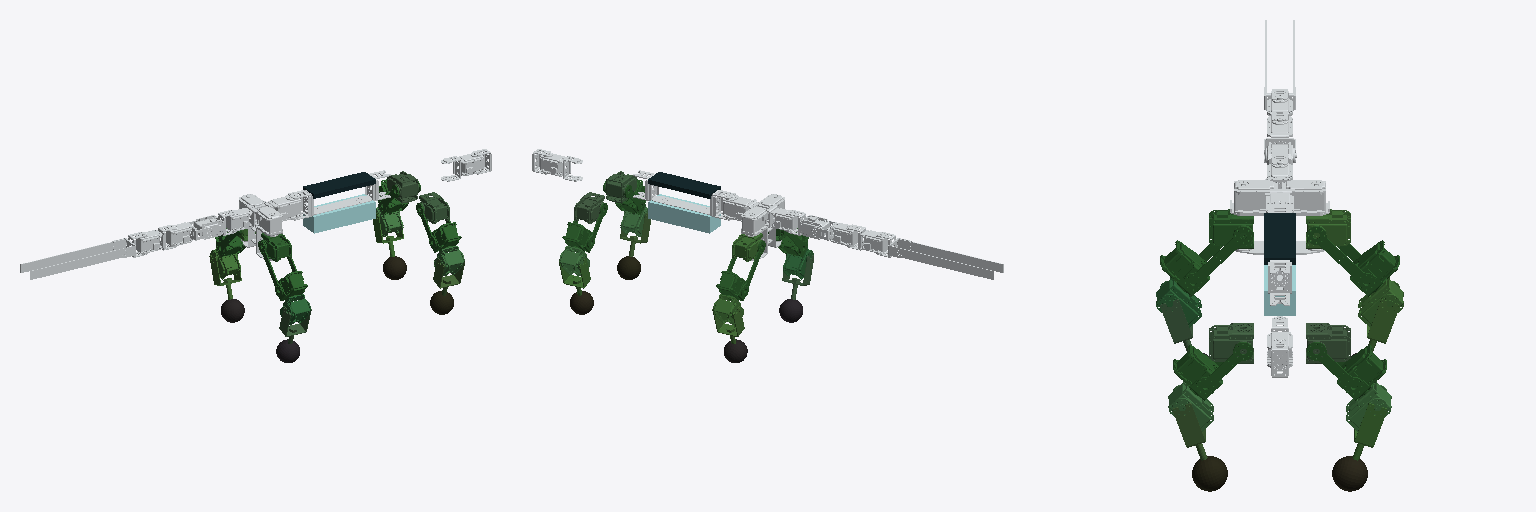
--- Facts derived from the render (not from the file) ---
3 views of the same robot in one strip: view 1: azimuth 30°, elevation 25°; view 2: azimuth 150°, elevation 25°; view 3: azimuth 270°, elevation 25° (orthographic).
Model ambot with 31 links and 30 joints (12 revolute, 18 fixed), rooted at base_link, posed joints at zero except 8 at the middle of their limits (FL_joint2 = -0.8, FL_joint4 = -1.1, FR_joint2 = 0.8, FR_joint4 = 1.1, HL_joint2 = -0.8, HL_joint4 = -1.1, +2 more).
Visible links, largest first — view 1: spine_link2, tail_link4, BATTERY_LINK, spine_link1, back_shell, HR_link2, FR_link2, head_link2, tail_link2, FL_link1, FR_link1, tail_link3 (+6 smaller); view 2: spine_link2, tail_link4, BATTERY_LINK, spine_link1, back_shell, HL_link2, FL_link2, head_link2, tail_link2, FR_link1, FL_link1, tail_link3 (+6 smaller); view 3: spine_link2, HR_link2, HL_link2, FL_link2, FR_link2, back_shell, FR_link1, FL_link1, spine_link1, HL_link1, HR_link1, FL_link3 (+16 smaller).
Link boxes in pixels (<box>): spine_link2: <box>225,194,300,260</box>; tail_link4: <box>20,232,146,279</box>; BATTERY_LINK: <box>303,194,375,233</box>; spine_link1: <box>288,170,390,220</box>; back_shell: <box>303,172,375,198</box>; HR_link2: <box>258,240,307,300</box>; FR_link2: <box>416,203,461,252</box>; head_link2: <box>441,154,483,181</box>; tail_link2: <box>166,221,208,246</box>; FL_link1: <box>387,171,418,203</box>; FR_link1: <box>419,192,449,223</box>; tail_link3: <box>136,225,175,254</box>; spine_link2: <box>723,194,798,260</box>; tail_link4: <box>877,232,1003,279</box>; BATTERY_LINK: <box>648,194,720,233</box>; spine_link1: <box>633,170,735,220</box>; back_shell: <box>648,172,720,198</box>; HL_link2: <box>716,240,765,300</box>; FL_link2: <box>562,203,607,252</box>; head_link2: <box>540,154,582,181</box>; tail_link2: <box>815,221,857,246</box>; FR_link1: <box>605,171,636,203</box>; FL_link1: <box>574,192,604,223</box>; tail_link3: <box>848,224,887,254</box>; spine_link2: <box>1230,161,1329,254</box>; HR_link2: <box>1160,226,1252,296</box>; HL_link2: <box>1307,226,1399,296</box>; FL_link2: <box>1307,342,1386,400</box>; FR_link2: <box>1173,342,1252,400</box>; back_shell: <box>1264,213,1295,264</box>; FR_link1: <box>1209,323,1253,363</box>; FL_link1: <box>1306,323,1350,363</box>; spine_link1: <box>1268,203,1291,305</box>; HL_link1: <box>1306,209,1350,248</box>; HR_link1: <box>1209,209,1253,248</box>; FL_link3: <box>1346,381,1391,431</box>.
Size in the robot's own frame: 1.11 by 0.3465 by 0.3189 metres.
24 mesh visuals loaded from 25 distinct referenced files (24 Collada DAE); not drawn: 1 (reference not matched to a file when rendering).

The robot description file, URDF, robot "ambot":
<?xml version="1.0" encoding="utf-8"?>
<!-- This URDF was automatically created by SolidWorks to URDF Exporter! Originally created by Stephen Brawner ([email redacted]) 
     Commit Version: 1.6.0-4-g7f85cfe  Build Version: 1.6.7995.38578
     For more information, please see http://wiki.ros.org/sw_urdf_exporter -->
<robot
	name="ambot">
	<link
		name="base_link">
		<inertial>
			<origin
				xyz="-0.0072192 1.7929E-05 0.053303"
				rpy="0 0 0" />
			<mass
				value="0.56788" />
			<inertia
				ixx="0.00019704"
				ixy="4.9225E-08"
				ixz="2.2788E-07"
				iyy="0.00017416"
				iyz="6.512E-12"
				izz="0.0001765" />
		</inertial>
		<visual>
			<origin
				xyz="0 0 0"
				rpy="0 0 0" />
			<geometry>
				<mesh
					filename="../meshes/base_link.dae" />
			</geometry>
			<material
				name="AL">
				<color
					rgba="0.89804 0.91765 0.92941 1" />
			</material>
		</visual>
		<collision>
			<origin
				xyz="0 0 0.013"
				rpy="0 0 0" />
			<geometry>
				<box size="0.041 0.037 0.05"/>
			</geometry>
		</collision>
		<!--left motor-->
		<collision>
			<origin
				xyz="0 0.0355 0.0604"
				rpy="0 0 0" />
			<geometry>
				<box size="0.041 0.060 0.041"/>
			</geometry>
		</collision>
		<!--right motor-->
		<collision>
			<origin
				xyz="0 -0.0355 0.0604"
				rpy="0 0 0" />
			<geometry>
				<box size="0.041 0.060 0.041"/>
			</geometry>
		</collision>
		<collision>
			<origin
				xyz="0.052 0 0.06035"
				rpy="0 0 0" />
			<geometry>
				<box size="0.045 0.0356 0.0356"/>
			</geometry>
		</collision>
		<collision>
			<origin
				xyz="-0.0575 0 0.06035"
				rpy="0 0 0" />
			<geometry>
				<box size="0.060 0.041 0.041"/>
			</geometry>
		</collision>

	</link>
	<link
		name="FL_link1">
		<inertial>
			<origin
				xyz="-1.0577E-05 0.013265 -0.069565"
				rpy="0 0 0" />
			<mass
				value="0.14912" />
			<inertia
				ixx="4.5576E-05"
				ixy="5.3711E-07"
				ixz="-5.2525E-13"
				iyy="3.201E-05"
				iyz="3.8531E-12"
				izz="5.5459E-05" />
		</inertial>
		<visual>
			<origin
				xyz="0 0 0"
				rpy="0 0 0" />
			<geometry>
				<mesh
					filename="../meshes/FL_link1.dae" />
			</geometry>
			<material
				name="A">
				<color
					rgba="0.29608 0.40608 0.29608 1" />
			</material>
		</visual>
		<collision>
			<origin
				xyz="0 0.015 -0.068"
				rpy="0 0 0" />
			<geometry>
				<box size="0.041 0.060 0.041"/>
			</geometry>
		</collision>
	</link>
	<joint
		name="FL_joint1"
		type="revolute">
		<origin
			xyz="0 0.051 0.0824"
			rpy="0 0 0" />
		<parent
			link="base_link" />
		<child
			link="FL_link1" />
		<axis
			xyz="0 0 1" />
		<limit
			lower="-1.4"
			upper="1.4"
			effort="12"
			velocity="6" 
			command_effort="12" 
			current="10"
			gear_velocity="10"
			stiffness="10"
			damping="1.0"
			/> 
		<dynamics damping="0.0" friction="0.0"/>  
	</joint>
	<link
		name="FL_link2">
		<inertial>
			<origin
				xyz="-0.0252 0.071262 0.012145"
				rpy="0 0 0" />
			<mass
				value="0.16287" />
			<inertia
				ixx="7.2988E-05"
				ixy="-5.2526E-13"
				ixz="3.8531E-12"
				iyy="4.59E-05"
				iyz="5.3711E-07"
				izz="4.8861E-05" />
		</inertial>
		<visual>
			<origin
				xyz="0 0 0"
				rpy="0 0 0" />
			<geometry>
				<mesh
					filename="../meshes/FL_link2.dae" />
			</geometry>
			<material
				name="A">
				<color
					rgba="0.2 0.4 0.2 1" />
			</material>
		</visual>

		<collision>
			<origin
				xyz="-0.024 0.075 0.015"
				rpy="0 0 0" />
			<geometry>
				<box size="0.041 0.041 0.060"/>
			</geometry>
		</collision>


	</link>
	<joint
		name="FL_joint2"
		type="revolute">
		<origin
			xyz="0.0252 -1.4041E-05 -0.0694"
			rpy="0 0 0" />
		<parent
			link="FL_link1" />
		<child
			link="FL_link2" />
		<axis
			xyz="1 0 0" />
		<limit
			lower="-1.4"
			upper="-0.2"
			effort="12"
			velocity="6" 
			command_effort="12" 
			current="10"
			gear_velocity="10"
			/> 
		<dynamics damping="0.0" friction="0.0"/>  
	</joint>
	<link
		name="FL_link3">
		<inertial>
			<origin
				xyz="-1.1199E-05 0.021089 -0.013973"
				rpy="0 0 0" />
			<mass
				value="0.14082" />
			<inertia
				ixx="4.4846E-05"
				ixy="-7.8684E-13"
				ixz="-5.3711E-07"
				iyy="5.3296E-05"
				iyz="2.4955E-08"
				izz="3.048E-05" />
		</inertial>
		<visual>
			<origin
				xyz="0 0 0"
				rpy="0 0 0" />
			<geometry>
				<mesh
					filename="../meshes/FL_link3.dae" />
			</geometry>
			<material
				name="A">
				<color
					rgba="0.289804 0.491765 0.2941 1" />
			</material>
		</visual>

		<collision>
			<origin
				xyz="0 0.022 -0.0155"
				rpy="0 0 0" />
			<geometry>
				<box size="0.041 0.041 0.060"/>
			</geometry>
		</collision>

	</link>
	<joint
		name="FL_joint3"
		type="fixed">
		<origin
			xyz="-0.0252 0.10021 -1.4041E-05"
			rpy="0 0 0" />
		<parent
			link="FL_link2" />
		<child
			link="FL_link3" />
		<axis
			xyz="0 1 0" />
		<limit
			lower="-1.4"
			upper="1.4"
			effort="12"
			velocity="6" 
			command_effort="12" 
			current="10"
			gear_velocity="10"
			/> 
		<dynamics damping="0.0" friction="0.0"/>  
	</joint>
	<link
		name="FL_link4">
		<inertial>
			<origin
				xyz="-0.0253000000007098 0.0662040642638314 -1.40411115238936E-05"
				rpy="0 0 0" />
			<mass
				value="0.0753829969965019" />
			<inertia
				ixx="3.430873341814E-05"
				ixy="2.49411774392775E-15"
				ixz="-2.71165864549092E-14"
				iyy="1.48258857291574E-05"
				iyz="3.95784402417202E-15"
				izz="4.47639226162227E-05" />
		</inertial>
		<visual>
			<origin
				xyz="0 0 0"
				rpy="0 0 0" />
			<geometry>
				<mesh
					filename="../meshes/FL_link4.dae" />
			</geometry>
			<material
				name="A">
				<color
					rgba="0.28039215686275 0.47647058823529 0.229411764705882 1" />
			</material>
		</visual>
		<collision>
			<origin
				xyz="-0.024 0.078 0.0"
				rpy="0 0 0" />
			<geometry>
				<box size="0.01 0.030 0.01"/>
			</geometry>
		</collision>

	</link>
	<joint
		name="FL_joint4"
		type="revolute">
		<origin
			xyz="0.0252 0.0222 2.8082E-05"
			rpy="0 0 0" />
		<parent
			link="FL_link3" />
		<child
			link="FL_link4" />
		<axis
			xyz="1 0 0" />
		<limit
			lower="-1.6"
			upper="-0.6"
			effort="12"
			velocity="6" 
			command_effort="12" 
			current="10"
			gear_velocity="10"
			/> 
		<dynamics damping="0.0" friction="0.0"/>  
	</joint>

	<!-- Foot link -->  
	<link name="FL_foot">    
		<visual>
			<origin xyz="-0.02530 0.1190 0"/>      
			<geometry>        
				<sphere radius="0.025"/>      
			</geometry>  
			<material
				name="A">
				<color
					rgba="0.1898039215686275 0.17647058823529 0.129411764705882 1" />
			</material>
		</visual>
		<collision>      
			<origin xyz="-0.02530 0.1190 0"/>      
			<geometry>        
				<sphere radius="0.025"/>      
			</geometry>    
		</collision> 
		<inertial>
			<origin rpy="0 0 0" xyz="-0.02530 0.1190 0"/>
			<mass value="0.05"/>
			<inertia ixx="0.001" ixy="-2.63048e-07" ixz="6.815581e-06" iyy="0.001" iyz="-6.815583e-06" izz="8.319196e-06"/>
		</inertial> 
	</link>

	<joint name="FL_TO_FOOT" type="fixed" dont_collapse="true">    
		<parent link="FL_link4"/>    
		<child link="FL_foot"/>    
		<origin rpy="0.0 0.0 0.0" xyz="0.0 0.0 0.0"/>  
	</joint>    

	<link
		name="FR_link1">
		<inertial>
			<origin
				xyz="-1.0577E-05 -0.013265 -0.069565"
				rpy="0 0 0" />
			<mass
				value="0.14912" />
			<inertia
				ixx="4.5576E-05"
				ixy="-5.3711E-07"
				ixz="5.2525E-13"
				iyy="3.201E-05"
				iyz="3.8531E-12"
				izz="5.5459E-05" />
		</inertial>
		<visual>
			<origin
				xyz="0 0 0"
				rpy="0 0 0" />
			<geometry>
				<mesh
					filename="../meshes/FR_link1.dae" />
			</geometry>
			<material
				name="A">
				<color
					rgba="0.289804 0.41765 0.2941 1" />
			</material>
		</visual>


		<collision>
			<origin
				xyz="0 -0.015 -0.068"
				rpy="0 0 0" />
			<geometry>
				<box size="0.041 0.060 0.041"/>
			</geometry>
		</collision>


	</link>
	<joint
		name="FR_joint1"
		type="revolute">
		<origin
			xyz="0 -0.051 0.0824"
			rpy="0 0 0" />
		<parent
			link="base_link" />
		<child
			link="FR_link1" />
		<axis
			xyz="0 0 1" />
		<limit
			lower="-1.4"
			upper="1.4"
			effort="12"
			velocity="6" 
			command_effort="12" 
			current="10"
			gear_velocity="10"
			/> 
		<dynamics damping="0.0" friction="0.0"/>  
	</joint>
	<link
		name="FR_link2">
		<inertial>
			<origin
				xyz="-0.0252 -0.071278 0.012145"
				rpy="0 0 0" />
			<mass
				value="0.16287" />
			<inertia
				ixx="7.2988E-05"
				ixy="-5.2525E-13"
				ixz="-3.8531E-12"
				iyy="4.59E-05"
				iyz="-5.3711E-07"
				izz="4.8861E-05" />
		</inertial>
		<visual>
			<origin
				xyz="0 0 0"
				rpy="0 0 0" />
			<geometry>
				<mesh
					filename="../meshes/FR_link2.dae" />
			</geometry>
			<material
				name="A">
				<color
					rgba="0.2 0.4 0.2 1" />
			</material>
		</visual>

		<collision>
			<origin
				xyz="-0.024 -0.075 0.015"
				rpy="0 0 0" />
			<geometry>
				<box size="0.041 0.041 0.060"/>
			</geometry>
		</collision>

	</link>
	<joint
		name="FR_joint2"
		type="revolute">
		<origin
			xyz="0.0252 1.4041E-05 -0.0694"
			rpy="0 0 0" />
		<parent
			link="FR_link1" />
		<child
			link="FR_link2" />
		<axis
			xyz="1 0 0" />
		<limit
			lower="0.2"
			upper="1.4"
			effort="12"
			velocity="6" 
			command_effort="12" 
			current="10"
			gear_velocity="10"
			/> 
		<dynamics damping="0.0" friction="0.0"/>  
	</joint>
	<link
		name="FR_link3">
		<inertial>
			<origin
				xyz="-1.1201E-05 -0.021089 -0.013973"
				rpy="0 0 0" />
			<mass
				value="0.14082" />
			<inertia
				ixx="4.4846E-05"
				ixy="-7.8675E-13"
				ixz="-5.3711E-07"
				iyy="5.3296E-05"
				iyz="-2.4963E-08"
				izz="3.048E-05" />
		</inertial>
		<visual>
			<origin
				xyz="0 0 0"
				rpy="0 0 0" />
			<geometry>
				<mesh
					filename="../meshes/FR_link3.dae" />
			</geometry>
			<material
				name="A">
				<color
					rgba="0.2804 0.4765 0.2941 1" />
			</material>
		</visual>

		<collision>
			<origin
				xyz="0 -0.022 -0.0155"
				rpy="0 0 0" />
			<geometry>
				<box size="0.041 0.041 0.060"/>
			</geometry>
		</collision>


	</link>
	<joint
		name="FR_joint3"
		type="fixed">
		<origin
			xyz="-0.0252 -0.10021 -1.4041E-05"
			rpy="0 0 0" />
		<parent
			link="FR_link2" />
		<child
			link="FR_link3" />
		<axis
			xyz="0 -1 0" />
		<limit
			lower="-1.4"
			upper="1.4"
			effort="12"
			velocity="6" 
			command_effort="12" 
			current="10"
			gear_velocity="10"
			/> 
		<dynamics damping="0.0" friction="0.0"/>  
	</joint>
	<link
		name="FR_link4">
		<inertial>
			<origin
				xyz="-0.0252999999993032 -0.0662040642643617 -1.40411115240324E-05"
				rpy="0 0 0" />
			<mass
				value="0.0753829969965019" />
			<inertia
				ixx="3.43087334181399E-05"
				ixy="2.49000423218722E-15"
				ixz="2.71167487151664E-14"
				iyy="1.48258857291574E-05"
				iyz="-3.95750984296237E-15"
				izz="4.47639226162226E-05" />
		</inertial>
		<visual>
			<origin
				xyz="0 0 0"
				rpy="0 0 0" />
			<geometry>
				<mesh
					filename="../meshes/FR_link4.dae" />
			</geometry>
			<material
				name="A">
				<color
					rgba="0.2898039215686275 0.417647058823529 0.2411764705882 1" />
			</material>
		</visual>
		<collision>
			<origin
				xyz="-0.024 -0.078 0.0"
				rpy="0 0 0" />
			<geometry>
				<box size="0.01 0.030 0.01"/>
			</geometry>
		</collision>
	</link>
	<joint
		name="FR_joint4"
		type="revolute">
		<origin
			xyz="0.0252 -0.0222 2.8082E-05"
			rpy="0 0 0" />
		<parent
			link="FR_link3" />
		<child
			link="FR_link4" />
		<axis
			xyz="1 0 0" />
		<limit
			lower="0.6"
			upper="1.6"
			effort="12"
			velocity="6" 
			command_effort="12" 
			current="10"
			gear_velocity="10"
			/> 
		<dynamics damping="0.0" friction="0.0"/>  
	</joint>

	<!-- Foot link -->  
	<link name="FR_foot">    
		<visual>
			<origin xyz="-0.02530 -0.1190 0"/>      
			<geometry>        
				<sphere radius="0.025"/>      
			</geometry>  
			<material
				name="A">
				<color
					rgba="0.18039215686275 0.17647058823529 0.11764705882 1" />
			</material>
		</visual>
		<collision>      
			<origin xyz="-0.02530 -0.1190 0"/>      
			<geometry>        
				<sphere radius="0.025"/>      
			</geometry>    
		</collision> 
		<inertial>
			<origin rpy="0 0 0" xyz="-0.02530 -0.1190 0"/>
			<mass value="0.05"/>
			<inertia ixx="0.001" ixy="-2.63048e-07" ixz="6.815581e-06" iyy="0.001" iyz="-6.815583e-06" izz="8.319196e-06"/>
		</inertial> 
	</link>

	<joint name="FR_TO_FOOT" type="fixed" dont_collapse="true">    
		<parent link="FR_link4"/>    
		<child link="FR_foot"/>    
		<origin rpy="0.0 0.0 0.0" xyz="0.0 0.0 0.0"/>  
	</joint>

	<link
		name="head_link2">
		<inertial>
			<origin
				xyz="0.052854 1.9632E-05 -0.02331"
				rpy="0 0 0" />
			<mass
				value="0.093763" />
			<inertia
				ixx="1.7484E-05"
				ixy="-6.1699E-09"
				ixz="-3.0933E-07"
				iyy="2.5926E-05"
				iyz="9.9901E-12"
				izz="2.0282E-05" />
		</inertial>
		<visual>
			<origin
				xyz="0 0 0"
				rpy="0 0 0" />
			<geometry>
				<mesh
					filename="../meshes/head_link2.dae" />
			</geometry>
			<material
				name="A">
				<color
					rgba="0.89804 0.91765 0.92941 1" />
			</material>
		</visual>

		<collision>
			<origin
				xyz="0.0513 0 -0.023"
				rpy="0 0 0" />
			<geometry>
				<box size="0.045 0.0356 0.0356"/>
			</geometry>
		</collision>


	</link>
	<joint
		name="head_joint2"
		type="fixed">
		<origin
			xyz="0.065812 0 0.08365"
			rpy="0 0 0" />
		<parent
			link="base_link" />
		<child
			link="head_link2" />
		<axis
			xyz="0 0 1" />
		<limit
			lower="-1.4"
			upper="1.4"
			effort="12"
			velocity="6" 
			command_effort="12" 
			current="10"
			gear_velocity="10"
			/> 
		<dynamics damping="0.0" friction="0.0"/>  
	</joint>
	<link
		name="head_link1">
		<inertial>
			<origin
				xyz="0.0148535095184353 1.39693829420695E-10 -0.0227582124062495"
				rpy="0 0 0" />
			<mass
				value="0.0128608784456393" />
			<inertia
				ixx="3.37863718117877E-06"
				ixy="-3.45517326553958E-15"
				ixz="-1.0234725253828E-10"
				iyy="3.64111475652834E-06"
				iyz="-1.73952253493372E-17"
				izz="1.66261496718536E-06" />
		</inertial>
		<visual>
			<origin
				xyz="0 0 0"
				rpy="0 0 0" />
			<geometry>
				<mesh
					filename="../meshes/head_link1.dae" />
			</geometry>
			<material
				name="A">
				<color
					rgba="0.898039215686275 0.917647058823529 0.929411764705882 1" />
			</material>
		</visual>

		<collision>
			<origin
				xyz="0.0513 0 -0.023"
				rpy="0 0 0" />
			<geometry>
				<box size="0.045 0.0356 0.0356"/>
			</geometry>
		</collision>


	</link>
	<joint
		name="head_joint1"
		type="fixed">
		<origin
			xyz="0.0718 0 -0.0001"
			rpy="0 0 0" />
		<parent
			link="head_link2" />
		<child
			link="head_link1" />
		<axis
			xyz="0 0 1" />
		<limit
			lower="-1.4"
			upper="1.4"
			effort="12"
			velocity="6" 
			command_effort="12" 
			current="10"
			gear_velocity="10"
			/> 
		<dynamics damping="0.0" friction="0.0"/>  
	</joint>
	<link
		name="spine_link1">
		<inertial>
			<origin
				xyz="-0.112785958888 -3.08780778723872E-16 -0.0233499999999768"
				rpy="0 0 0" />
			<mass
				value="0.103071283080016" />
			<inertia
				ixx="3.81209960942315E-05"
				ixy="-4.49393428156638E-22"
				ixz="-1.52191878234228E-18"
				iyy="9.44367833460431E-05"
				iyz="3.84077898124163E-22"
				izz="7.62238168208059E-05" />
		</inertial>
		<visual>
			<origin
				xyz="0.1418 0 0"
				rpy="0 0 0" />
			<geometry>
				<mesh
					filename="../meshes/spine_link1.dae" />
			</geometry>
			<material
				name="A">
				<color
					rgba="0.898039215686275 0.917647058823529 0.929411764705882 1" />
			</material>
		</visual>

		<collision>
			<origin
				xyz="-0.1128 0 -0.023"
				rpy="0 0 0" />
			<geometry>
				<box size="0.1576 0.0356 0.045"/>
			</geometry>
		</collision>

	</link>
	<joint
		name="spine_joint1"
		type="fixed">
		<origin
			xyz="-0.076014 0 0.0856"
			rpy="0 0 0" />
		<parent
			link="base_link" />
		<child
			link="spine_link1" />
		<axis
			xyz="0 0 1" />
		<limit
			lower="-1.2"
			upper="1.2"
			effort="12"
			velocity="6" 
			command_effort="12" 
			current="10"
			gear_velocity="10"
			/> 
		<dynamics damping="0.0" friction="0.0"/>
	</joint>

	<link
		name="BATTERY_LINK">
		<inertial>
			<origin
				xyz="0 0 0"
				rpy="0 0 0" />
			<mass
				value="0.650" />
			<inertia
				ixx="0.00077"
				ixy="0.000914"
				ixz="-1.52191878234228E-18"
				iyy="0.0052"
				iyz="0.000284"
				izz="0.00506" />
		</inertial>
		<visual>
			<origin
				xyz="0.0 0 0"
				rpy="0 0 0" />
			<geometry>
				<box size="0.148 0.046 0.038"/>
			</geometry>
			<material
				name="A">
				<color
					rgba="0.7039215686275 0.917647058823529 0.929411764705882 1" />
			</material>
		</visual>
		<collision>
			<origin
				xyz="0.0 0 0"
				rpy="0 0 0" />
			<geometry>
				<box size="0.148 0.046 0.038"/>
			</geometry>
		</collision>

	</link>

	<link
		name="back_shell">
		<inertial>
			<origin
				xyz="0 0 0"
				rpy="0 0 0" />
			<mass
				value="0.01" />
			<inertia
				ixx="0.00077"
				ixy="0.000914"
				ixz="-1.52191878234228E-18"
				iyy="0.0052"
				iyz="0.000284"
				izz="0.00506" />
		</inertial>
		<visual>
			<origin
				xyz="0.0 0 0"
				rpy="0 0 0" />
			<geometry>
				<box size="0.148 0.046 0.01"/>
			</geometry>
			<material
				name="A">
				<color
					rgba="0.098039215686275 0.17647058823529 0.19411764705882 1" />
			</material>
		</visual>
		<collision>
			<origin
				xyz="0.0 0 0"
				rpy="0 0 0" />
			<geometry>
				<box size="0.148 0.046 0.01"/>
			</geometry>
		</collision>
	</link>

	<joint
		name="back_shell_joint"
		type="fixed">
		<origin
			xyz="-0.112812 0 0.0"
			rpy="0 0 0" />
		<parent
			link="spine_link1" />
		<child
			link="back_shell" />
		<axis
			xyz="0 0 1" />
		<limit
			lower="0"
			upper="0"
			effort="0"
			velocity="0" />
	</joint>


	<joint
		name="FIX_JOINT"
		type="fixed">
		<origin
			xyz="-0.112812 0 -0.065"
			rpy="0 0 0" />
		<parent
			link="spine_link1" />
		<child
			link="BATTERY_LINK" />
		<axis
			xyz="0 0 1" />
		<limit
			lower="0"
			upper="0"
			effort="0"
			velocity="0" />
	</joint>

	<link
		name="spine_link2">
		<inertial>
			<origin
				xyz="-0.069295 -1.1371E-05 -0.032236"
				rpy="0 0 0" />
			<mass
				value="0.57179" />
			<inertia
				ixx="0.00019717"
				ixy="6.1567E-08"
				ixz="-2.2788E-07"
				iyy="0.00017428"
				iyz="-6.5119E-12"
				izz="0.00017674" />
		</inertial>
		<visual>
			<origin
				xyz="0 0 0"
				rpy="0 0 0" />
			<geometry>
				<mesh
					filename="../meshes/spine_link2.dae" />
			</geometry>
			<material
				name="A">
				<color
					rgba="0.89804 0.91765 0.92941 1" />
			</material>
		</visual>

		<collision>
			<origin
				xyz="-0.076 0 -0.073"
				rpy="0 0 0" />
			<geometry>
				<box size="0.041 0.037 0.05"/>
			</geometry>
		</collision>
		<!--left motor-->
		<collision>
			<origin
				xyz="-0.076 0.0355 -0.0256"
				rpy="0 0 0" />
			<geometry>
				<box size="0.041 0.060 0.041"/>
			</geometry>
		</collision>
		<!--right motor-->
		<collision>
			<origin
				xyz="-0.076 -0.0355 -0.0256"
				rpy="0 0 0" />
			<geometry>
				<box size="0.041 0.060 0.041"/>
			</geometry>
		</collision>
		<collision>
			<origin
				xyz="-0.1285 0 -0.02565"
				rpy="0 0 0" />
			<geometry>
				<box size="0.045 0.0356 0.0356"/>
			</geometry>
		</collision>
		<collision>
			<origin
				xyz="-0.018 0 -0.02565"
				rpy="0 0 0" />
			<geometry>
				<box size="0.060 0.041 0.041"/>
			</geometry>
		</collision>



	</link>
	<joint
		name="spine_joint2"
		type="fixed">
		<origin
			xyz="-0.2256 0 0.00195"
			rpy="0 0 0" />
		<parent
			link="spine_link1" />
		<child
			link="spine_link2" />
		<axis
			xyz="0 0 1" />
		<limit
			lower="-1.2"
			upper="1.2"
			effort="12"
			velocity="6" 
			command_effort="12" 
			current="10"
			gear_velocity="10"
			/> 
		<dynamics damping="0.0" friction="0.0"/>  
	</joint>
	<link
		name="HL_link1">
		<inertial>
			<origin
				xyz="-1.05771180524405E-05 0.0132654601574521 -0.069565480566841"
				rpy="0 0 0" />
			<mass
				value="0.149115595818189" />
			<inertia
				ixx="4.55758083562384E-05"
				ixy="5.37110126541777E-07"
				ixz="-5.25253727939667E-13"
				iyy="3.20102348934197E-05"
				iyz="3.85309005142872E-12"
				izz="5.54585973240775E-05" />
		</inertial>
		<visual>
			<origin
				xyz="0 0 0"
				rpy="0 0 0" />
			<geometry>
				<mesh
					filename="../meshes/HL_link1.dae" />
			</geometry>
			<material
				name="A">
				<color
					rgba="0.28039215686275 0.47058823529 0.2411764705882 1" />
			</material>
		</visual>

		<collision>
			<origin
				xyz="0 0.015 -0.068"
				rpy="0 0 0" />
			<geometry>
				<box size="0.041 0.060 0.041"/>
			</geometry>
		</collision>

	</link>
	<joint
		name="HL_joint1"
		type="revolute">
		<origin
			xyz="-0.076014 0.051 -0.0032"
			rpy="0 0 0" />
		<parent
			link="spine_link2" />
		<child
			link="HL_link1" />
		<axis
			xyz="0 0 1" />
		<limit
			lower="-1.4"
			upper="1.4"
			effort="12"
			velocity="6" 
			command_effort="12" 
			current="10"
			gear_velocity="10"
			/> 
		<dynamics damping="0.0" friction="0.0"/>  
	</joint>
	<link
		name="HL_link2">
		<inertial>
			<origin
				xyz="-0.0251999999062681 0.0937865916689117 0.0118538068190398"
				rpy="0 0 0" />
			<mass
				value="0.166873564364499" />
			<inertia
				ixx="8.85185054689428E-05"
				ixy="-5.25261127744957E-13"
				ixz="3.85308970709481E-12"
				iyy="4.59783608946718E-05"
				iyz="5.37110126538201E-07"
				izz="6.4318688931619E-05" />
		</inertial>
		<visual>
			<origin
				xyz="0 0 0"
				rpy="0 0 0" />
			<geometry>
				<mesh
					filename="../meshes/HL_link2.dae" />
			</geometry>
			<material
				name="A">
				<color
					rgba="0.2 0.4 0.2 1.0" />
			</material>
		</visual>

		<collision>
			<origin
				xyz="-0.024 0.1 0.015"
				rpy="0 0 0" />
			<geometry>
				<box size="0.041 0.041 0.060"/>
			</geometry>
		</collision>


	</link>
	<joint
		name="HL_joint2"
		type="revolute">
		<origin
			xyz="0.0252 -1.4041E-05 -0.0694"
			rpy="0 0 0" />
		<parent
			link="HL_link1" />
		<child
			link="HL_link2" />
		<axis
			xyz="1 0 0" />
		<limit
			lower="-1.4"
			upper="-0.2"
			effort="12"
			velocity="6" 
			command_effort="12" 
			current="10"
			gear_velocity="10"
			/> 
		<dynamics damping="0.0" friction="0.0"/>  
	</joint>
	<link
		name="HL_link3">
		<inertial>
			<origin
				xyz="-1.11986618887283E-05 0.0210886893382483 -0.0139733231144062"
				rpy="0 0 0" />
			<mass
				value="0.140823246480586" />
			<inertia
				ixx="4.48458889111508E-05"
				ixy="-7.8684330088224E-13"
				ixz="-5.37107696648494E-07"
				iyy="5.32958595107274E-05"
				iyz="2.49548169241301E-08"
				izz="3.04800781289404E-05" />
		</inertial>
		<visual>
			<origin
				xyz="0 0 0"
				rpy="0 0 0" />
			<geometry>
				<mesh
					filename="../meshes/HL_link3.dae" />
			</geometry>
			<material
				name="A">
				<color
					rgba="0.28039215686275 0.47058823529 0.2411764705882 1" />
			</material>
		</visual>

		<collision>
			<origin
				xyz="0 0.022 -0.0155"
				rpy="0 0 0" />
			<geometry>
				<box size="0.041 0.041 0.060"/>
			</geometry>
		</collision>

	</link>
	<joint
		name="HL_joint3"
		type="fixed">
		<origin
			xyz="-0.0252 0.12521 -1.4041E-05"
			rpy="0 0 0" />
		<parent
			link="HL_link2" />
		<child
			link="HL_link3" />
		<axis
			xyz="0 1 0" />
		<limit
			lower="-1.4"
			upper="1.4"
			effort="12"
			velocity="6" 
			command_effort="12" 
			current="10"
			gear_velocity="10"
			/> 
		<dynamics damping="0.0" friction="0.0"/>  
	</joint>
	<link
		name="HL_link4">
		<inertial>
			<origin
				xyz="-0.025300000000711 0.0662040642638319 -1.40411115246153E-05"
				rpy="0 0 0" />
			<mass
				value="0.075382996996502" />
			<inertia
				ixx="3.430873341814E-05"
				ixy="2.49448860689944E-15"
				ixz="-2.71165695377851E-14"
				iyy="1.48258857291574E-05"
				iyz="3.95789186826221E-15"
				izz="4.47639226162227E-05" />
		</inertial>
		<visual>
			<origin
				xyz="0 0 0"
				rpy="0 0 0" />
			<geometry>
				<mesh
					filename="../meshes/HL_link4.dae" />
			</geometry>
			<material
				name="A">
				<color
					rgba="0.298039215686275 0.47058823529 0.2411764705882 1" />
			</material>
		</visual>

		<collision>
			<origin
				xyz="-0.024 0.078 0.0"
				rpy="0 0 0" />
			<geometry>
				<box size="0.01 0.030 0.01"/>
			</geometry>
		</collision>


	</link>
	<joint
		name="HL_joint4"
		type="revolute">
		<origin
			xyz="0.0252 0.0222 2.8082E-05"
			rpy="0 0 0" />
		<parent
			link="HL_link3" />
		<child
			link="HL_link4" />
		<axis
			xyz="1 0 0" />
		<limit
			lower="-1.6"
			upper="-0.6"
			effort="12"
			velocity="6" 
			command_effort="12" 
			current="10"
			gear_velocity="10"
			/> 
		<dynamics damping="0.0" friction="0.0"/>  
	</joint>

	<!-- Foot link -->  
	<link name="HL_foot">    
		<visual>
			<origin xyz="-0.02530 0.1190 0"/>      
			<geometry>        
				<sphere radius="0.025"/>      
			</geometry>  
			<material
				name="A">
				<color
					rgba="0.1898039215686275 0.17647058823529 0.1764705882 1" />
			</material>
		</visual>
		<collision>      
			<origin xyz="-0.02530 0.1190 0"/>      
			<geometry>        
				<sphere radius="0.025"/>      
			</geometry>    
		</collision> 
		<inertial>
			<origin rpy="0 0 0" xyz="-0.02530 0.1190 0"/>
			<mass value="0.05"/>
			<inertia ixx="0.001" ixy="-2.63048e-07" ixz="6.815581e-06" iyy="0.001" iyz="-6.815583e-06" izz="8.319196e-06"/>
		</inertial> 
	</link>

	<joint name="HL_TO_FOOT" type="fixed" dont_collapse="true">    
		<parent link="HL_link4"/>    
		<child link="HL_foot"/>    
		<origin rpy="0.0 0.0 0.0" xyz="0.0 0.0 0.0"/>  
	</joint>

	<link
		name="HR_link1">
		<inertial>
			<origin
				xyz="-1.05771180390346E-05 -0.0132654601574506 -0.0695654807785161"
				rpy="0 0 0" />
			<mass
				value="0.14911559581823" />
			<inertia
				ixx="4.55758083562391E-05"
				ixy="-5.37110126538558E-07"
				ixz="5.25253580444053E-13"
				iyy="3.20102348934199E-05"
				iyz="3.85309004857734E-12"
				izz="5.54585973240776E-05" />
		</inertial>
		<visual>
			<origin
				xyz="0 0 0"
				rpy="0 0 0" />
			<geometry>
				<mesh
					filename="../meshes/HR_link1.dae" />
			</geometry>
			<material
				name="A">
				<color
					rgba="0.2156862745098 0.42156862745098 0.2156862745098 1" />
			</material>
		</visual>
		<collision>
			<origin
				xyz="0 -0.015 -0.068"
				rpy="0 0 0" />
			<geometry>
				<box size="0.041 0.060 0.041"/>
			</geometry>
		</collision>

	</link>
	<joint
		name="HR_joint1"
		type="revolute">
		<origin
			xyz="-0.076014 -0.051 -0.0032"
			rpy="0 0 0" />
		<parent
			link="spine_link2" />
		<child
			link="HR_link1" />
		<axis
			xyz="0 0 1" />
		<limit
			lower="-1.4"
			upper="1.4"
			effort="12"
			velocity="6" 
			command_effort="12" 
			current="10"
			gear_velocity="10"
			/> 
		<dynamics damping="0.0" friction="0.0"/>  
	</joint>
	<link
		name="HR_link2">
		<inertial>
			<origin
				xyz="-0.0252 -0.093787 0.011854"
				rpy="0 0 0" />
			<mass
				value="0.16687" />
			<inertia
				ixx="8.8519E-05"
				ixy="-5.2525E-13"
				ixz="-3.8531E-12"
				iyy="4.5978E-05"
				iyz="-5.3711E-07"
				izz="6.4319E-05" />
		</inertial>
		<visual>
			<origin
				xyz="0 0 0"
				rpy="0 0 0" />
			<geometry>
				<mesh
					filename="../meshes/HR_link2.dae" />
			</geometry>
			<material
				name="A">
				<color
					rgba="0.2 0.4 0.2 1" />
			</material>
		</visual>
		<collision>
			<origin
				xyz="-0.024 -0.1 0.015"
				rpy="0 0 0" />
			<geometry>
				<box size="0.041 0.041 0.060"/>
			</geometry>
		</collision>
	</link>
	<joint
		name="HR_joint2"
		type="revolute">
		<origin
			xyz="0.0252 1.4041E-05 -0.0694"
			rpy="0 0 0" />
		<parent
			link="HR_link1" />
		<child
			link="HR_link2" />
		<axis
			xyz="1 0 0" />
		<limit
			lower="0.2"
			upper="1.4"
			effort="12"
			velocity="6" 
			command_effort="12" 
			current="10"
			gear_velocity="10"
			/> 
		<dynamics damping="0.0" friction="0.0"/>  
	</joint>
	<link
		name="HR_link3">
		<inertial>
			<origin
				xyz="-1.12012372563419E-05 -0.0210886891161066 -0.0139733231144064"
				rpy="0 0 0" />
			<mass
				value="0.140823246480586" />
			<inertia
				ixx="4.48458889111508E-05"
				ixy="-7.86842983087833E-13"
				ixz="-5.37112556428295E-07"
				iyy="5.32958595107275E-05"
				iyz="-2.49625231151965E-08"
				izz="3.04800781289405E-05" />
		</inertial>
		<visual>
			<origin
				xyz="0 0 0"
				rpy="0 0 0" />
			<geometry>
				<mesh
					filename="../meshes/HR_link3.dae" />
			</geometry>
			<material
				name="A">
				<color
					rgba="0.2078431372549 0.431372549 0.2549 1" />
			</material>
		</visual>
		<collision>
			<origin
				xyz="0 -0.022 -0.0155"
				rpy="0 0 0" />
			<geometry>
				<box size="0.041 0.041 0.060"/>
			</geometry>
		</collision>
	</link>
	<joint
		name="HR_joint3"
		type="fixed">
		<origin
			xyz="-0.0252 -0.12521 -1.4041E-05"
			rpy="0 0 0" />
		<parent
			link="HR_link2" />
		<child
			link="HR_link3" />
		<axis
			xyz="0 -1 0" />
		<limit
			lower="-1.4"
			upper="1.4"
			effort="12"
			velocity="6" 
			command_effort="12" 
			current="10"
			gear_velocity="10"
			/> 
		<dynamics damping="0.0" friction="0.0"/>  
	</joint>
	<link
		name="HR_link4">
		<inertial>
			<origin
				xyz="-0.0253 -0.066204 -1.4041E-05"
				rpy="0 0 0" />
			<mass
				value="0.075383" />
			<inertia
				ixx="3.4309E-05"
				ixy="-2.0798E-15"
				ixz="2.7117E-14"
				iyy="1.4826E-05"
				iyz="3.9576E-15"
				izz="4.4764E-05" />
		</inertial>
		<visual>
			<origin
				xyz="0 0 0"
				rpy="0 0 0" />
			<geometry>
				<mesh
					filename="../meshes/HR_link4.dae" />
			</geometry>
			<material
				name="A">
				<color
					rgba="0.289804 0.41765 0.2941 1" />
			</material>
		</visual>
		<collision>
			<origin
				xyz="-0.024 -0.078 0.0"
				rpy="0 0 0" />
			<geometry>
				<box size="0.01 0.030 0.01"/>
			</geometry>
		</collision>
	</link>
	<joint
		name="HR_joint4"
		type="revolute">
		<origin
			xyz="0.0252 -0.0222 2.8082E-05"
			rpy="0 0 0" />
		<parent
			link="HR_link3" />
		<child
			link="HR_link4" />
		<axis
			xyz="1 0 0" />
		<limit
			lower="0.6"
			upper="1.6"
			effort="12"
			velocity="6" 
			command_effort="12" 
			current="10"
			gear_velocity="10"
			/> 
		<dynamics damping="0.0" friction="0.0"/>  
	</joint>

	<!-- Foot link -->  
	<link name="HR_foot">    
		<visual>
			<origin xyz="-0.02530 -0.1190 0"/>      
			<geometry>        
				<sphere radius="0.025"/>      
			</geometry>  
			<material
				name="A">
				<color
					rgba="0.1898039215686275 0.17647058823529 0.19411764705882 1" />
			</material>
		</visual>
		<collision>      
			<origin xyz="-0.02530 -0.1190 0"/>      
			<geometry>        
				<sphere radius="0.025"/>      
			</geometry>    
		</collision> 
		<inertial>
			<origin rpy="0 0 0" xyz="-0.02530 -0.1190 0"/>
			<mass value="0.05"/>
			<inertia ixx="0.001" ixy="-2.63048e-07" ixz="6.815581e-06" iyy="0.001" iyz="-6.815583e-06" izz="8.319196e-06"/>
		</inertial> 
	</link>

	<joint name="HR_TO_FOOT" type="fixed" dont_collapse="true">    
		<parent link="HR_link4"/>    
		<child link="HR_foot"/>    
		<origin rpy="0.0 0.0 0.0" xyz="0.0 0.0 0.0"/>  
	</joint>

	<link
		name="tail_link1">
		<inertial>
			<origin
				xyz="-0.0556739276929865 3.61699028247897E-05 -0.0233300463243901"
				rpy="0 0 0" />
			<mass
				value="0.0937626012175353" />
			<inertia
				ixx="1.74839708708055E-05"
				ixy="3.09230421734669E-07"
				ixz="6.06824257928429E-09"
				iyy="2.23760685381496E-05"
				iyz="1.09237468916004E-11"
				izz="2.38323118486215E-05" />
		</inertial>
		<visual>
			<origin
				xyz="0 0 0"
				rpy="0 0 0" />
			<geometry>
				<mesh
					filename="../meshes/tail_link1.dae" />
			</geometry>
			<material
				name="A">
				<color
					rgba="0.898039215686275 0.917647058823529 0.929411764705882 1" />
			</material>
		</visual>
		<collision>
			<origin
				xyz="-0.0611 0 -0.023"
				rpy="0 0 0" />
			<geometry>
				<box size="0.045 0.0356 0.0356"/>
			</geometry>
		</collision>
	</link>
	<joint
		name="tail_joint1"
		type="fixed">
		<origin
			xyz="-0.14183 0 -0.00195"
			rpy="0 0 0" />
		<parent
			link="spine_link2" />
		<child
			link="tail_link1" />
		<axis
			xyz="0 0 1" />
		<limit
			lower="-1.4"
			upper="1.4"
			effort="12"
			velocity="6" 
			command_effort="12" 
			current="10"
			gear_velocity="10"
			/> 
		<dynamics damping="0.0" friction="0.0"/>  
	</joint>
	<link
		name="tail_link2">
		<inertial>
			<origin
				xyz="-0.055674 -0.02333 3.6169E-05"
				rpy="0 0 0" />
			<mass
				value="0.093763" />
			<inertia
				ixx="1.7484E-05"
				ixy="6.0706E-09"
				ixz="3.0923E-07"
				iyy="2.3832E-05"
				iyz="-9.9901E-12"
				izz="2.2376E-05" />
		</inertial>
		<visual>
			<origin
				xyz="0 0 0"
				rpy="0 0 0" />
			<geometry>
				<mesh
					filename="../meshes/tail_link2.dae" />
			</geometry>
			<material
				name="A">
				<color
					rgba="0.89804 0.91765 0.92941 1" />
			</material>
		</visual>
		<collision>
			<origin
				xyz="-0.0611 -0.023 0"
				rpy="0 0 0" />
			<geometry>
				<box size="0.045 0.0356 0.0356"/>
			</geometry>
		</collision>

	</link>
	<joint
		name="tail_joint2"
		type="fixed">
		<origin
			xyz="-0.0716 0.02325 -0.02335"
			rpy="0 0 0" />
		<parent
			link="tail_link1" />
		<child
			link="tail_link2" />
		<axis
			xyz="0 1 0" />
		<limit
			lower="-1.4"
			upper="1.4"
			effort="12"
			velocity="6" 
			command_effort="12" 
			current="10"
			gear_velocity="10"
			/> 
		<dynamics damping="0.0" friction="0.0"/>  
	</joint>
	<link
		name="tail_link3">
		<inertial>
			<origin
				xyz="-0.055674 1.9617E-05 -0.023314"
				rpy="0 0 0" />
			<mass
				value="0.093763" />
			<inertia
				ixx="1.7484E-05"
				ixy="6.1723E-09"
				ixz="3.0933E-07"
				iyy="2.5926E-05"
				iyz="-9.9883E-12"
				izz="2.0282E-05" />
		</inertial>
		<visual>
			<origin
				xyz="0 0 0"
				rpy="0 0 0" />
			<geometry>
				<mesh
					filename="../meshes/tail_link3.dae" />
			</geometry>
			<material
				name="A">
				<color
					rgba="0.89804 0.91765 0.92941 1" />
			</material>
		</visual>
		<collision>
			<origin
				xyz="-0.0611 0 -0.023"
				rpy="0 0 0" />
			<geometry>
				<box size="0.045 0.0356 0.0356"/>
			</geometry>
		</collision>
	</link>
	<joint
		name="tail_joint3"
		type="fixed">
		<origin
			xyz="-0.0716 -0.02335 0.02325"
			rpy="0 0 0" />
		<parent
			link="tail_link2" />
		<child
			link="tail_link3" />
		<axis
			xyz="0 0 1" />
		<limit
			lower="-1.4"
			upper="1.4"
			effort="12"
			velocity="6" 
			command_effort="12" 
			current="10"
			gear_velocity="10"
			/> 
		<dynamics damping="0.0" friction="0.0"/>  
	</joint>
	<link
		name="tail_link4">
		<inertial>
			<origin
				xyz="-0.097476 -7.8774E-07 -0.023351"
				rpy="0 0 0" />
			<mass
				value="0.038207" />
			<inertia
				ixx="7.1973E-06"
				ixy="-1.0175E-10"
				ixz="1.0175E-10"
				iyy="0.0001111"
				iyz="-3.0494E-22"
				izz="0.00011043" />
		</inertial>
		<visual>
			<origin
				xyz="0 0 0"
				rpy="0 0 0" />
			<geometry>
				<mesh
					filename="../meshes/tail_link4.dae" />
			</geometry>
			<material
				name="A">
				<color
					rgba="0.89804 0.91765 0.92941 1" />
			</material>
		</visual>

		<collision>
			<origin
				xyz="-0.0611 0 -0.023"
				rpy="0 0 0" />
			<geometry>
				<box size="0.045 0.0356 0.0356"/>
			</geometry>
		</collision>


	</link>
	<joint
		name="tail_joint4"
		type="fixed">
		<origin
			xyz="-0.0716 0 -0.0001"
			rpy="0 0 0" />
		<parent
			link="tail_link3" />
		<child
			link="tail_link4" />
		<axis
			xyz="0 0 1" />
		<limit
			lower="-1.4"
			upper="1.4"
			effort="12"
			velocity="6" 
			command_effort="12" 
			current="10"
			gear_velocity="10"
			/> 
		<dynamics damping="0.0" friction="0.0"/>  
	</joint>
</robot>
